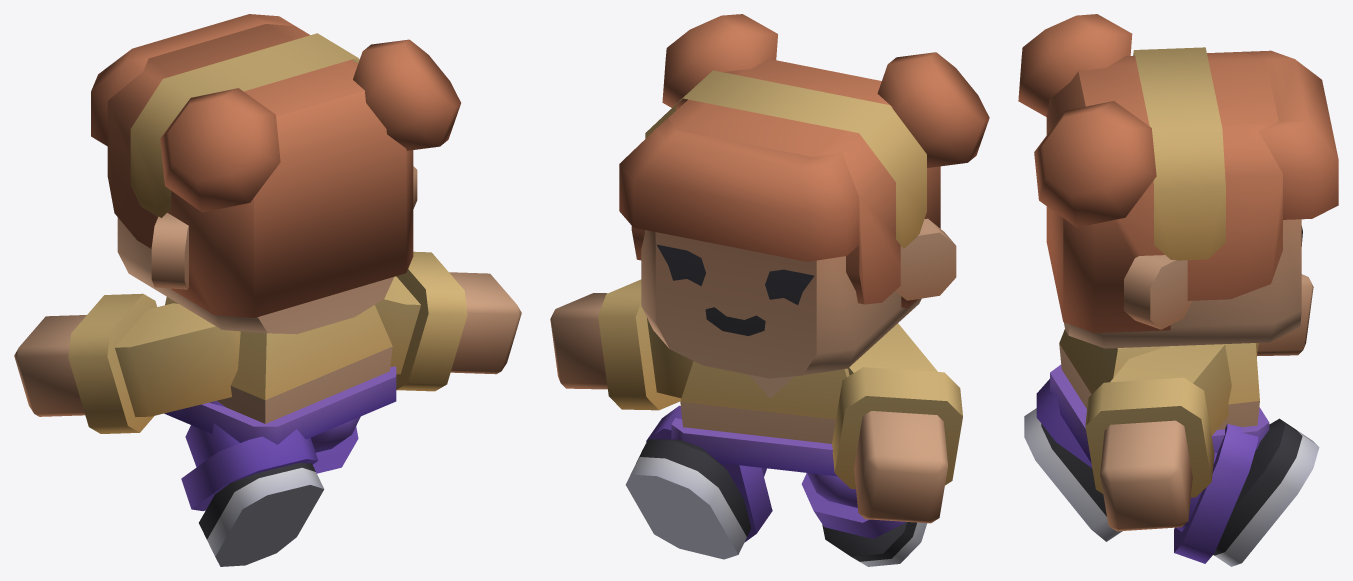
The model's file is hand_1_w3.fbx.
The picture shows the model from 3 angles, left to right: view 1: azimuth 30°, elevation 25°; view 2: azimuth 150°, elevation 25°; view 3: azimuth 270°, elevation 25°; orthographic projection. The views are drawn at different scales.
Parts seen in each view (by area): view 1: body-mesh; view 2: body-mesh; view 3: body-mesh.
Boxes of the visible parts, <box> form: body-mesh: <box>14,14,521,566</box>; body-mesh: <box>550,14,989,566</box>; body-mesh: <box>1018,14,1338,566</box>.
Size of the model in its own units: 0.9226 by 1 by 0.5813.
